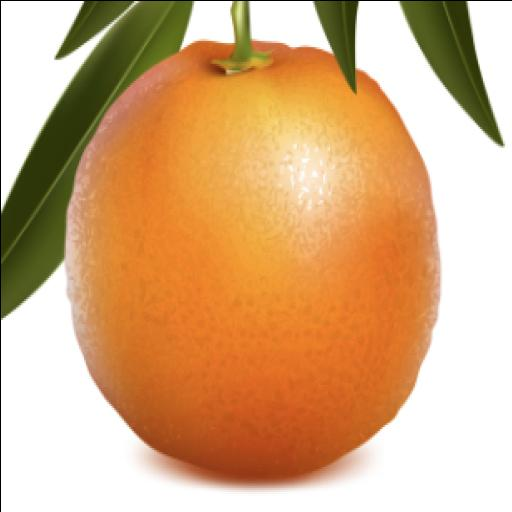orange: (66, 43, 439, 477)
